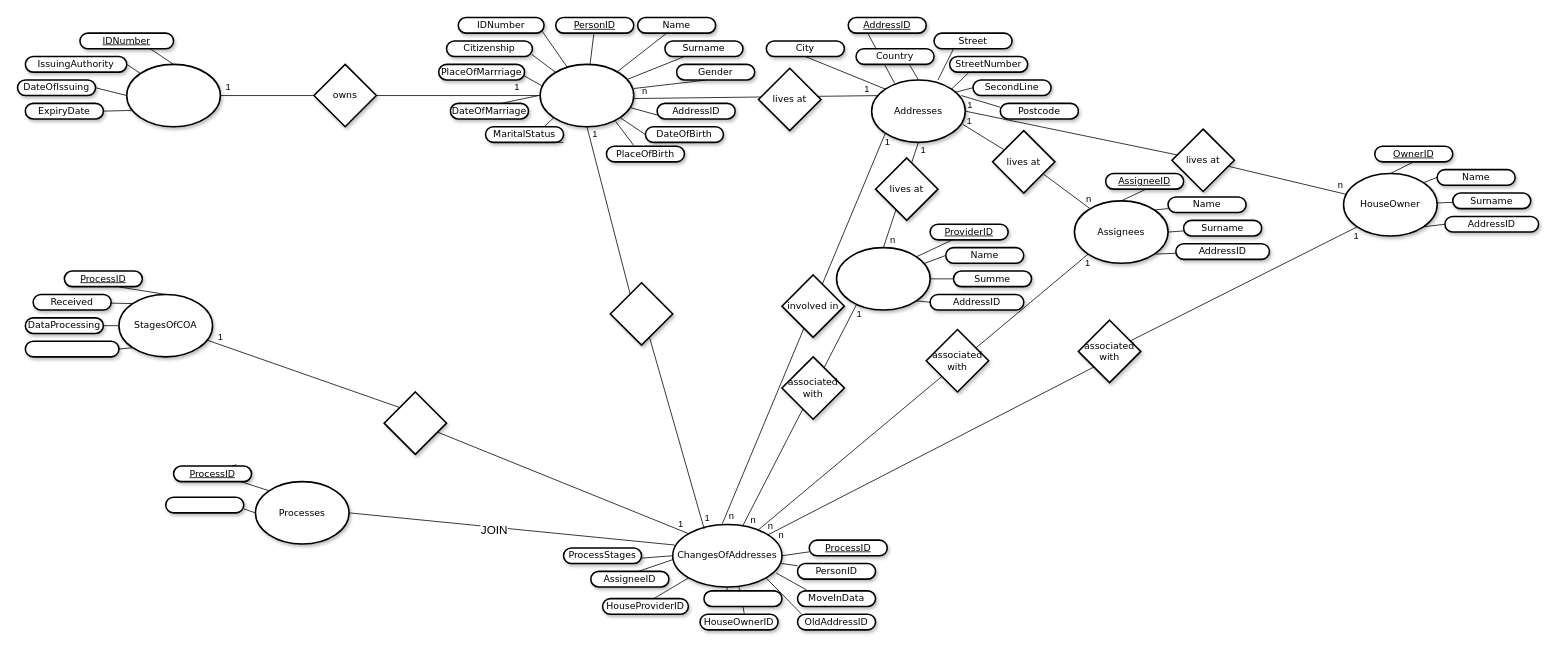
This 1557x649 diagram has some shape labels left out. Here are the shapes that lost their labels. From the top down, the centre of each, then its label:
(173,96): Identifications
(587,96): Persons
(883,279): HouseProviders
(642,314): changes address
(72,350): ReadyForMeeting
(416,424): requests
(205,506): Type
(743,599): NewAddressID
